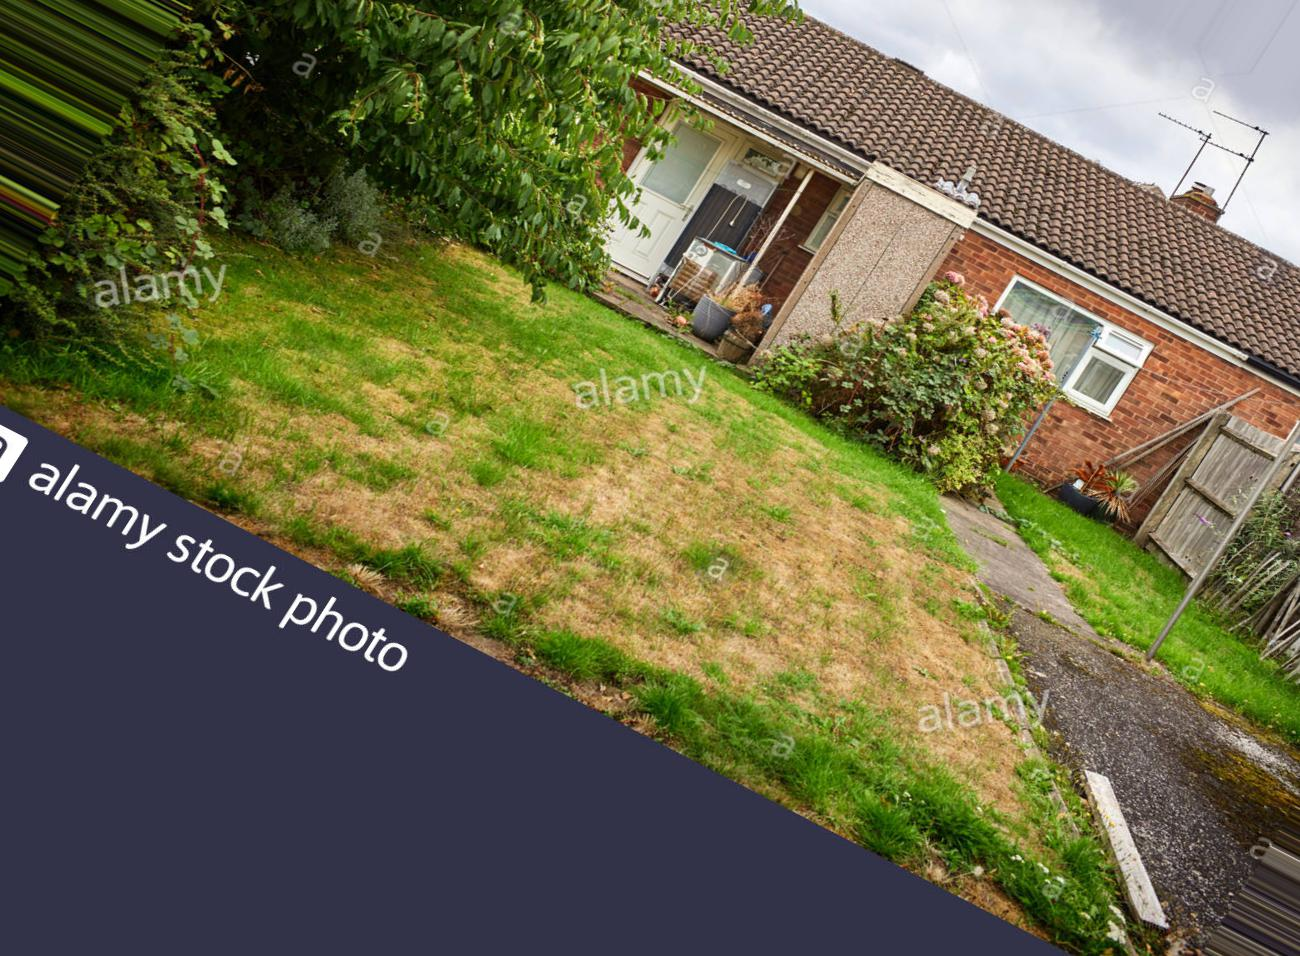patch: (307, 402, 568, 600), (610, 461, 779, 647), (804, 480, 894, 715), (908, 581, 986, 766)
